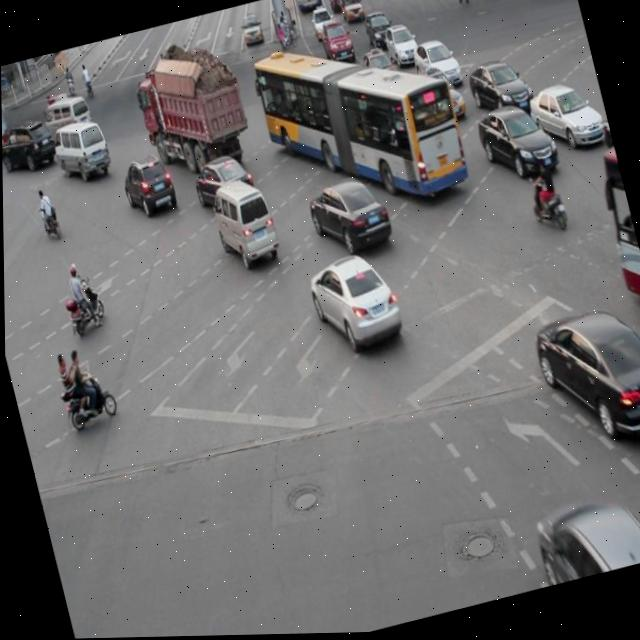bus: (131, 49, 254, 182)
car: (526, 297, 640, 456), (526, 484, 640, 589), (301, 246, 404, 359), (302, 171, 394, 263), (471, 98, 559, 188), (523, 76, 606, 160), (462, 53, 535, 127), (188, 149, 258, 219), (117, 150, 177, 219), (409, 63, 466, 129), (408, 36, 462, 94), (358, 44, 407, 100), (596, 114, 618, 173)
truck: (206, 173, 280, 271), (47, 115, 114, 187)
van: (249, 14, 469, 228), (591, 146, 640, 333)
